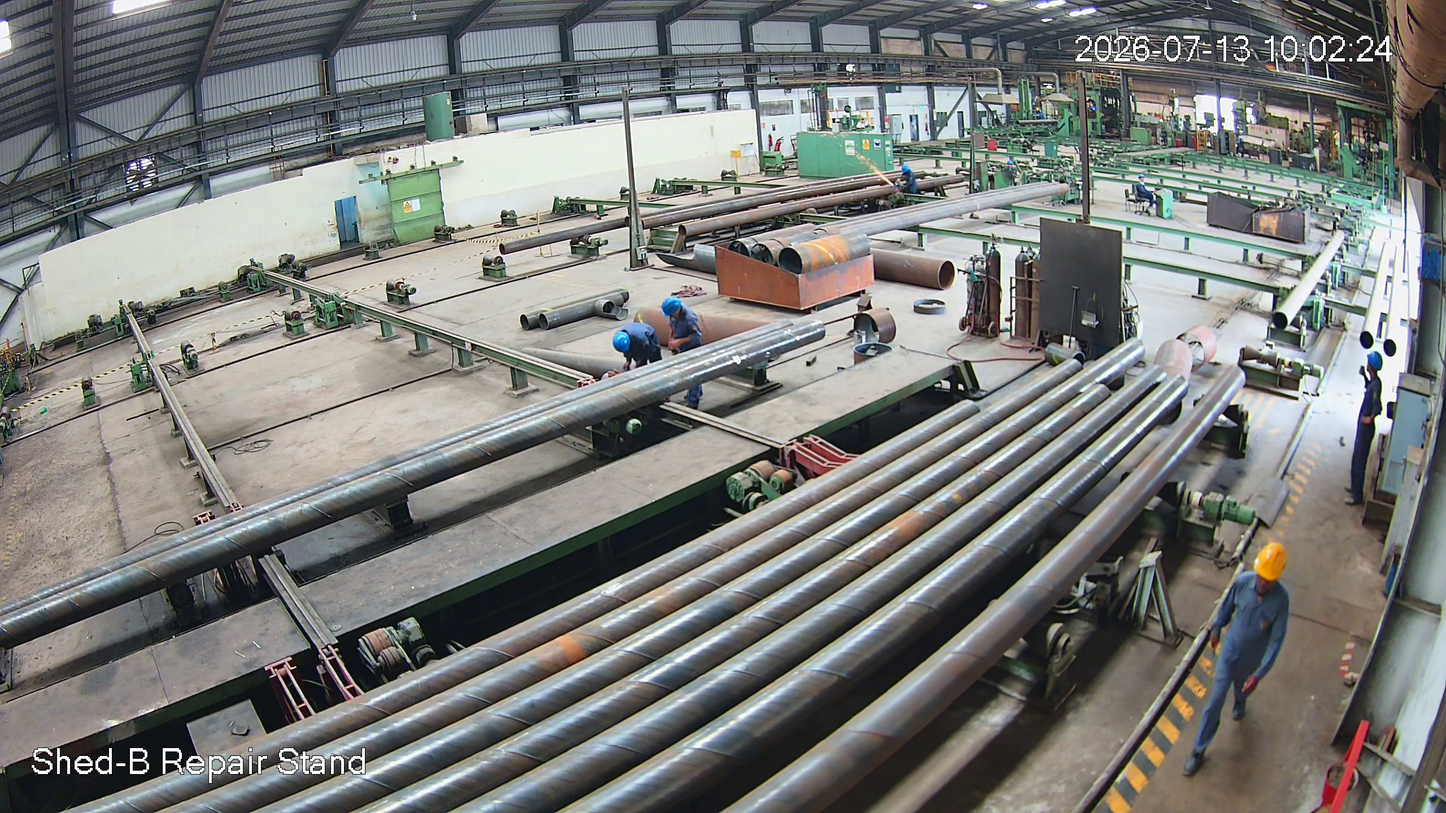Helmet: (1247, 538, 1298, 601), (609, 326, 640, 355), (1363, 349, 1388, 381), (657, 293, 686, 319)
Person: (1182, 541, 1307, 787), (1339, 352, 1391, 504), (661, 296, 709, 413), (613, 323, 671, 385)
